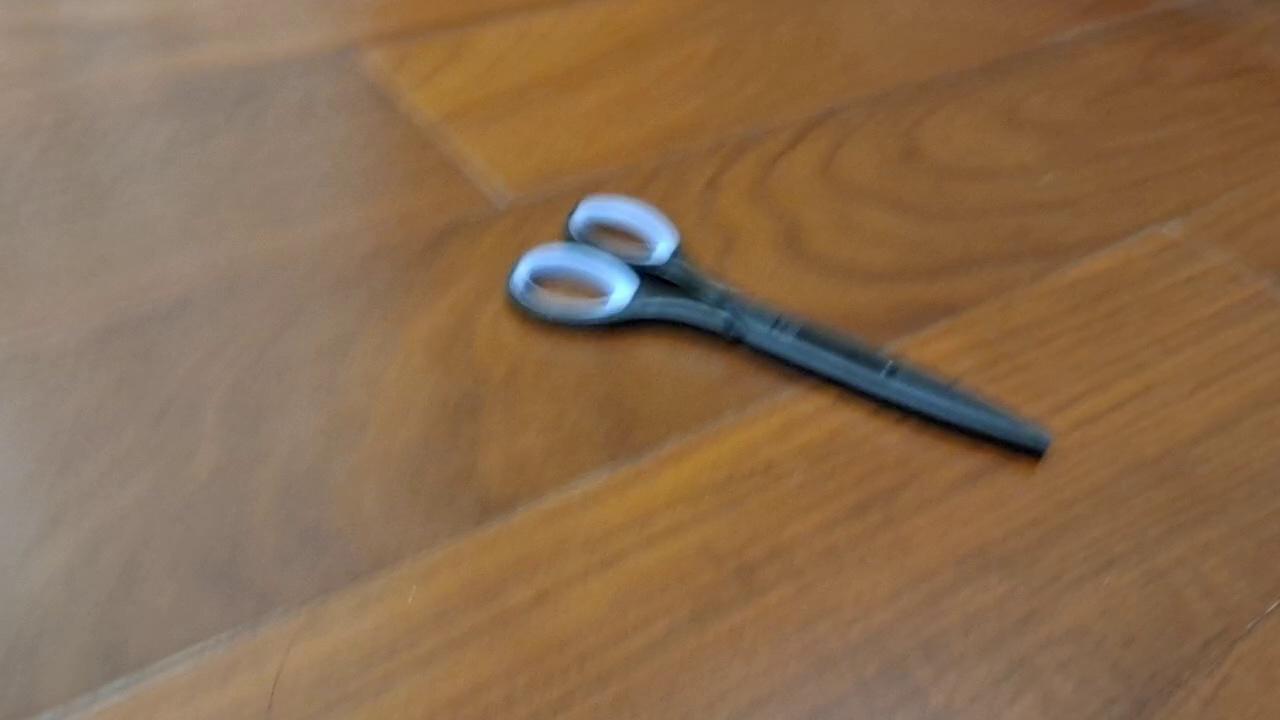scissors: (505, 191, 1053, 462)
